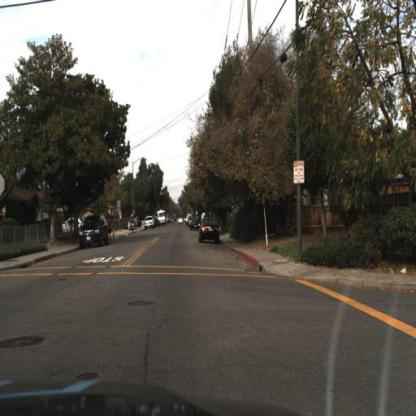car: (77, 210, 111, 250), (197, 215, 223, 248), (143, 216, 157, 234)
pedestrian: (127, 214, 137, 240)
